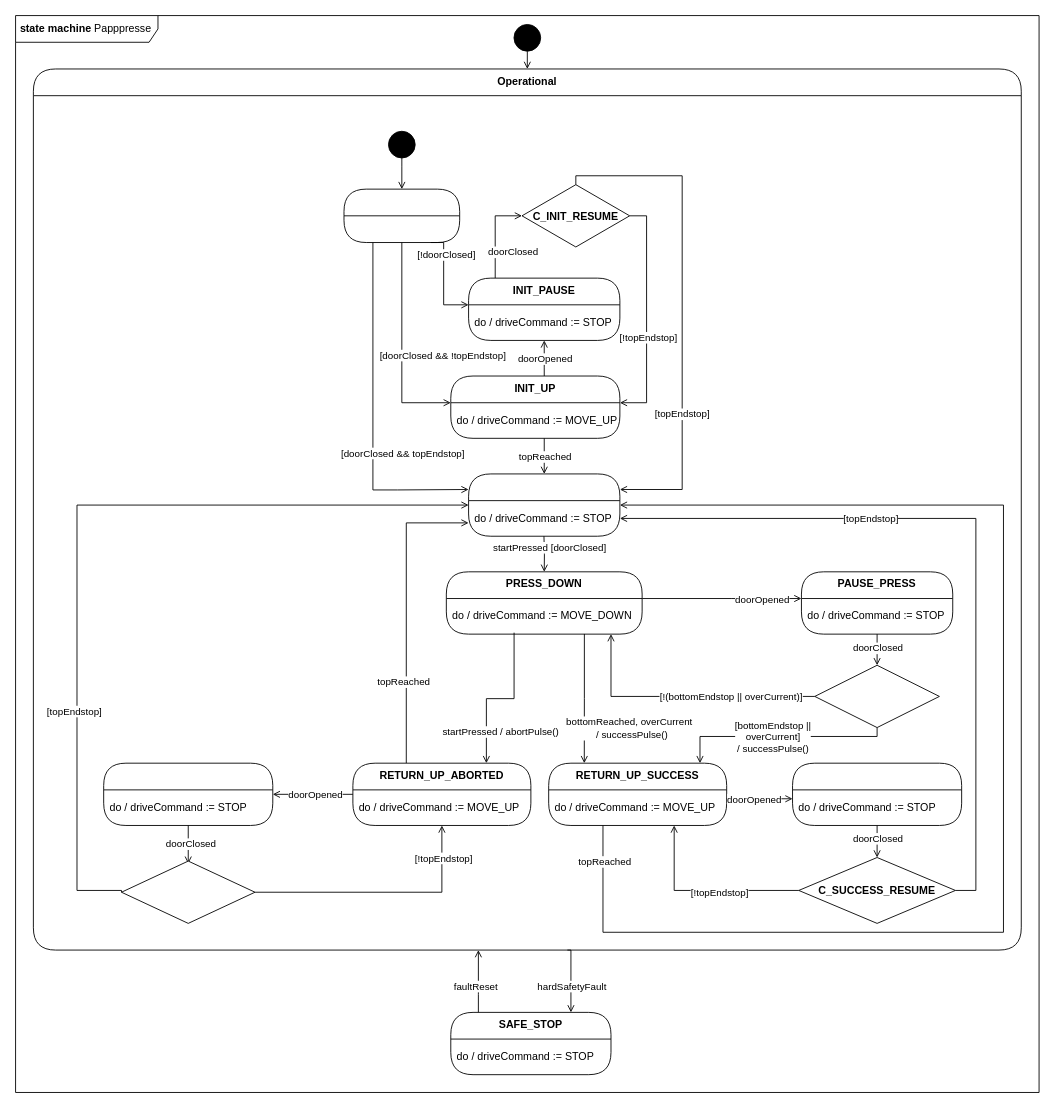
Some shapes in this 1055 by 1108 pixel diagram are drawn without their labels. The shapes that lost their labels are listed below. From the top down, each one's box as (x1, y1, x2, y2) in pixels, then its label:
(343, 188, 460, 243): C_INIT
(468, 473, 620, 536): READY_TOP
(814, 664, 939, 728): C_PRESS_RESUME
(103, 762, 273, 825): PAUSE_RETURN_ABORTED
(792, 762, 962, 825): PAUSE_RETURN_SUCCESS
(121, 860, 255, 923): C_ABORT_RESUME
